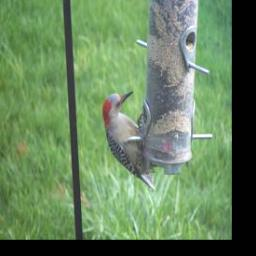Woodpecker: (103, 90, 157, 192)
